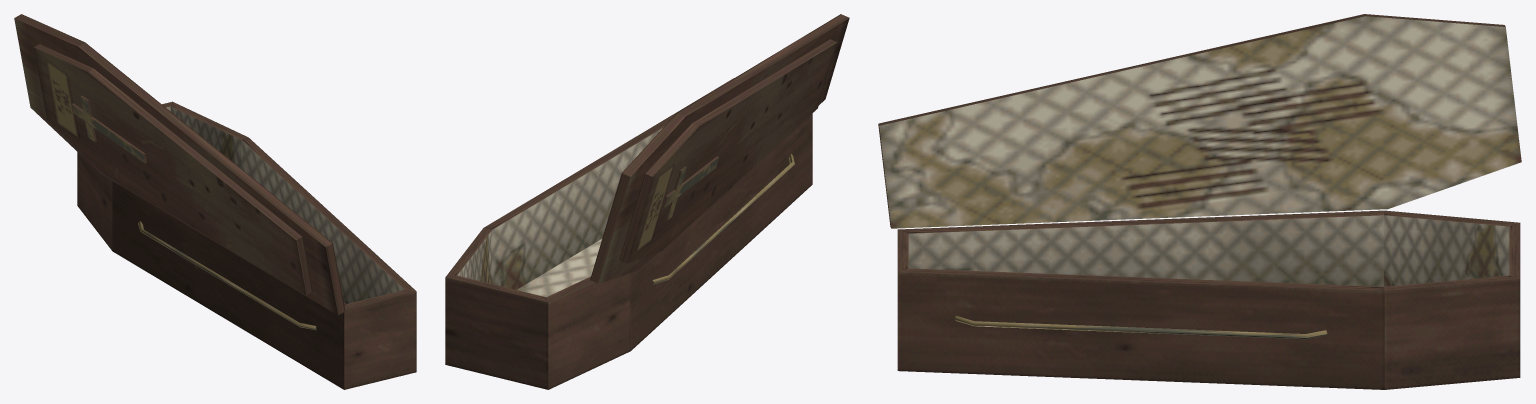
The model's file is coffin_open.obj.
3 views of the same model, side by side, from view 1: azimuth 30°, elevation 25°; view 2: azimuth 150°, elevation 25°; view 3: azimuth 270°, elevation 25° (orthographic). The views are drawn at different scales.
Parts seen in each view (by area): view 1: coffin_open; view 2: coffin_open; view 3: coffin_open.
Boxes of the visible parts, box(x1,y1,x2,y2) form: coffin_open: box(14, 14, 416, 389); coffin_open: box(445, 14, 849, 389); coffin_open: box(878, 14, 1521, 389).
Size of the model in its own units: 0.839 by 0.94 by 2.01.
1 material, 1 textured.
